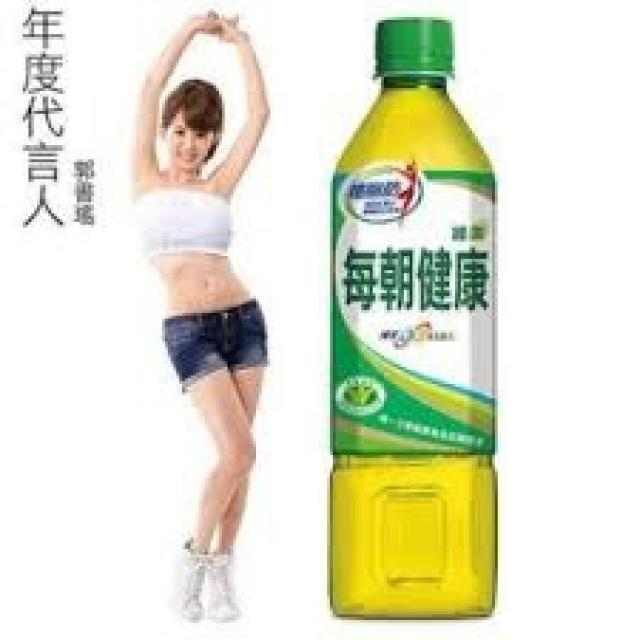MeiChou_GreenTea: (323, 7, 505, 620)
